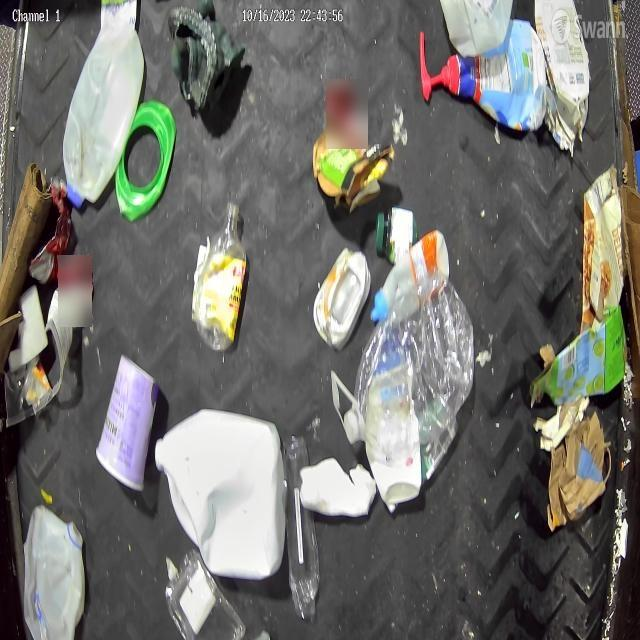milk_jug: (156, 405, 286, 581), (63, 8, 146, 206), (22, 506, 86, 640)
plastic_bottle: (342, 268, 474, 446), (282, 434, 322, 618)
